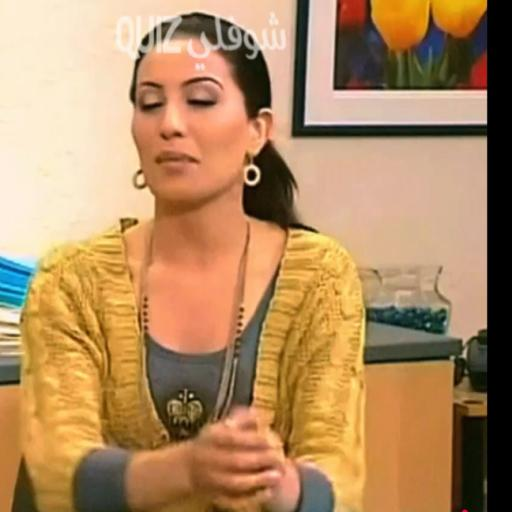Dalanda: (132, 49, 271, 208)
